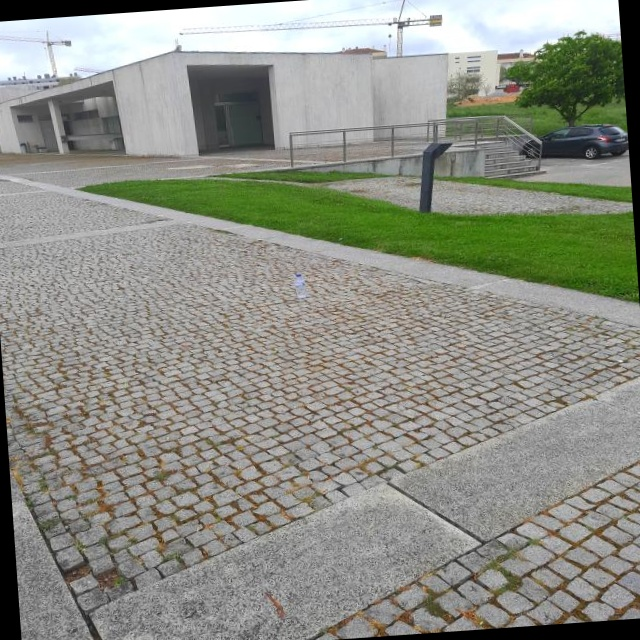Plastic-bottle: (296, 271, 311, 297)
